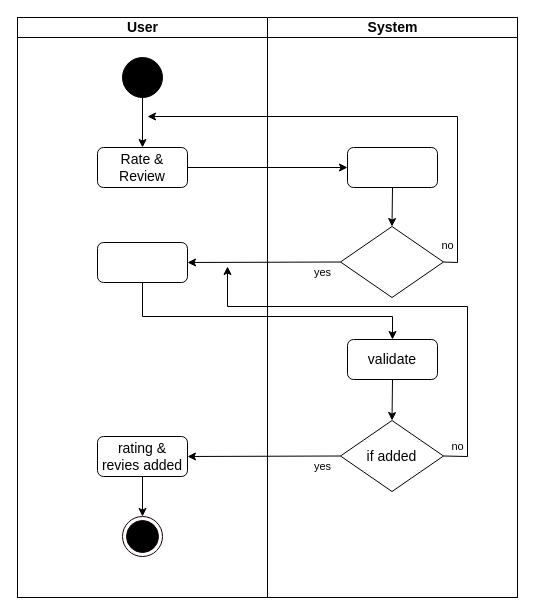
Image size: 535x615. Some labels were removed from this diagram. The centre of each missing label's shape, as x and y in pixels:
check for order: pixel 392 167
give rating & reviews: pixel 142 262
if delivered: pixel 392 262
